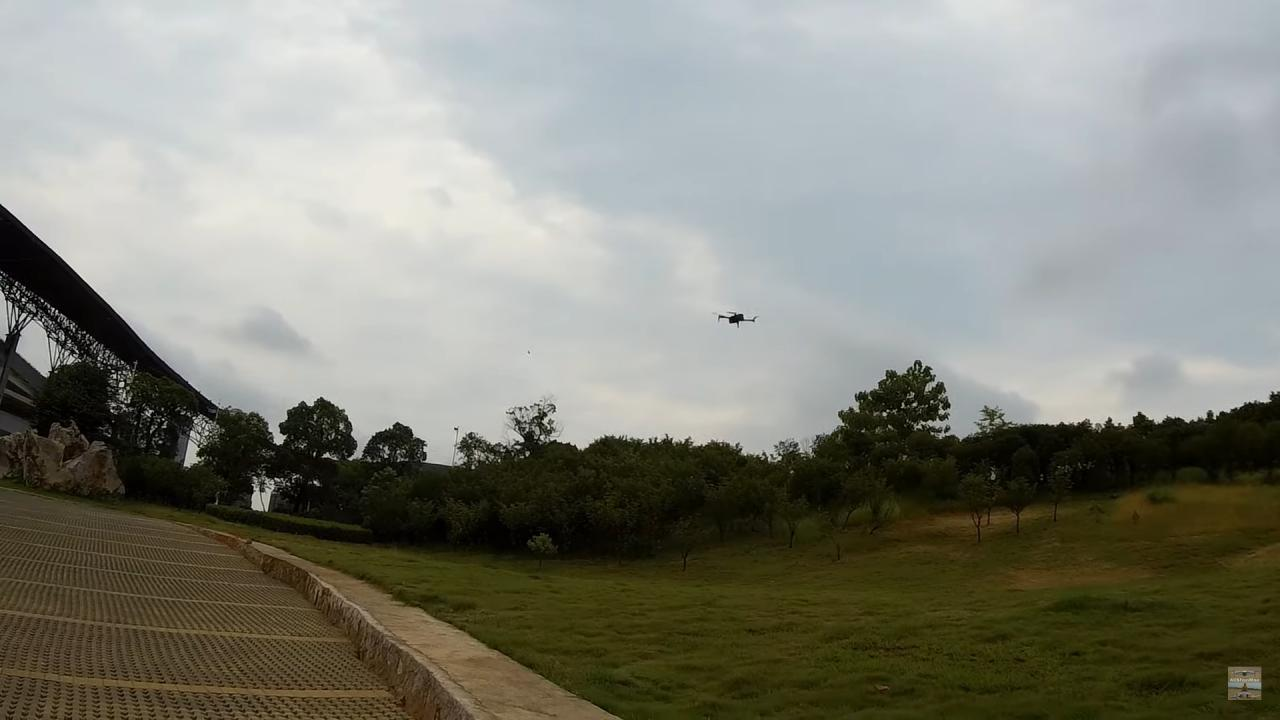Drone: (703, 299, 770, 337)
